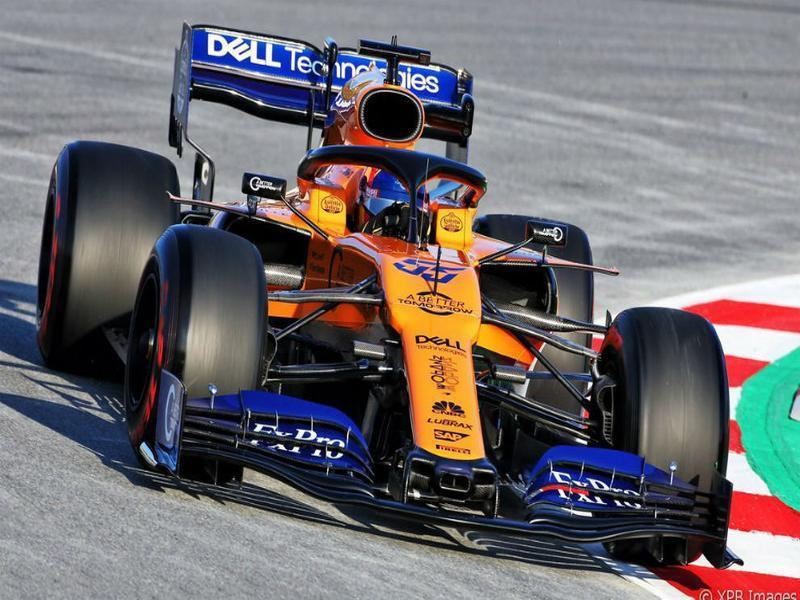f1: (32, 15, 751, 578)
